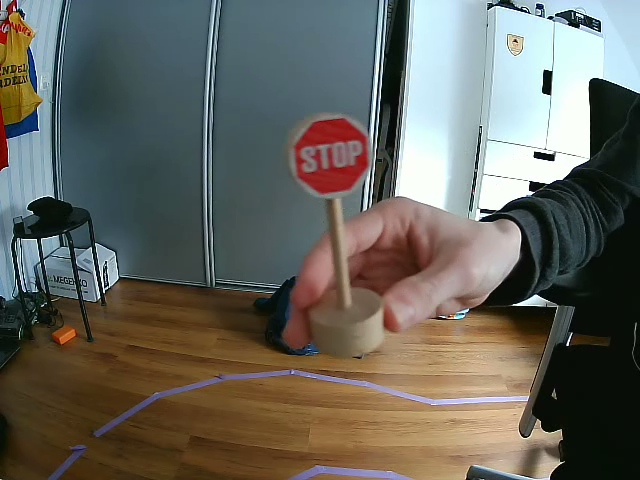stopbord: (291, 112, 369, 200)
